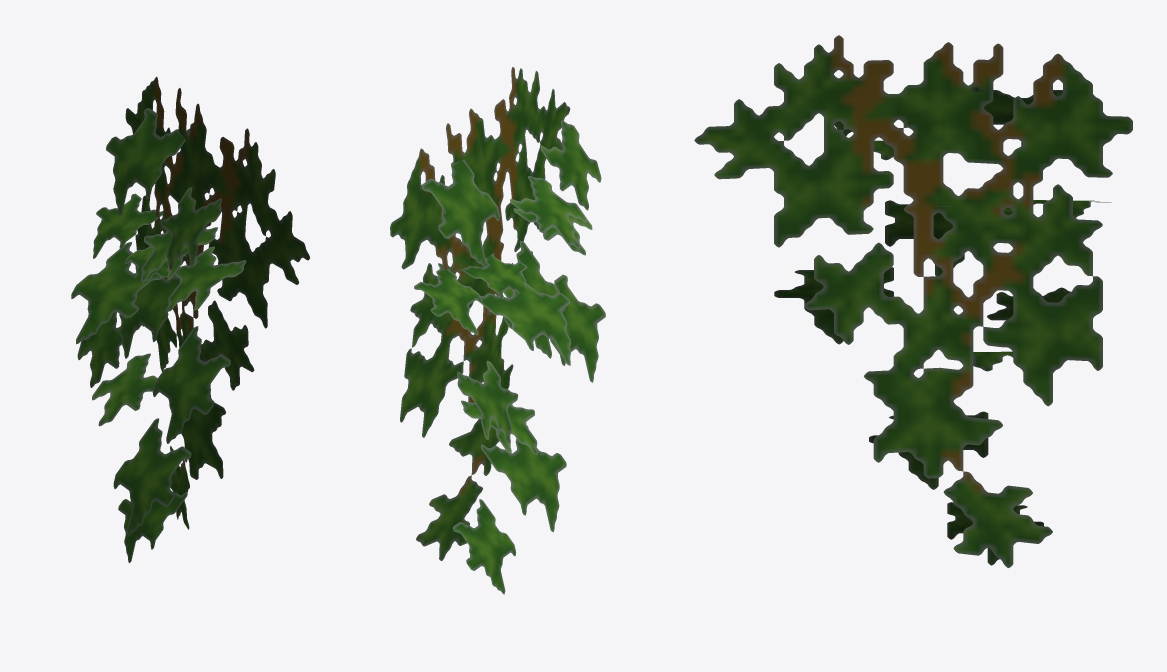
The model's file is Ivy_3.fbx.
3 renders of one model, left to right at view 1: azimuth 30°, elevation 25°; view 2: azimuth 150°, elevation 25°; view 3: azimuth 270°, elevation 25°, orthographic. The views are drawn at different scales.
Visible parts, largest first — view 1: Plane.008; view 2: Plane.008; view 3: Plane.008.
Part boxes in pixels (left/top/right/bottom): Plane.008: left=71, top=77, right=309, bottom=562; Plane.008: left=390, top=67, right=605, bottom=594; Plane.008: left=694, top=35, right=1132, bottom=567.
Size of the model in its own units: 69.38 by 217 by 149.
